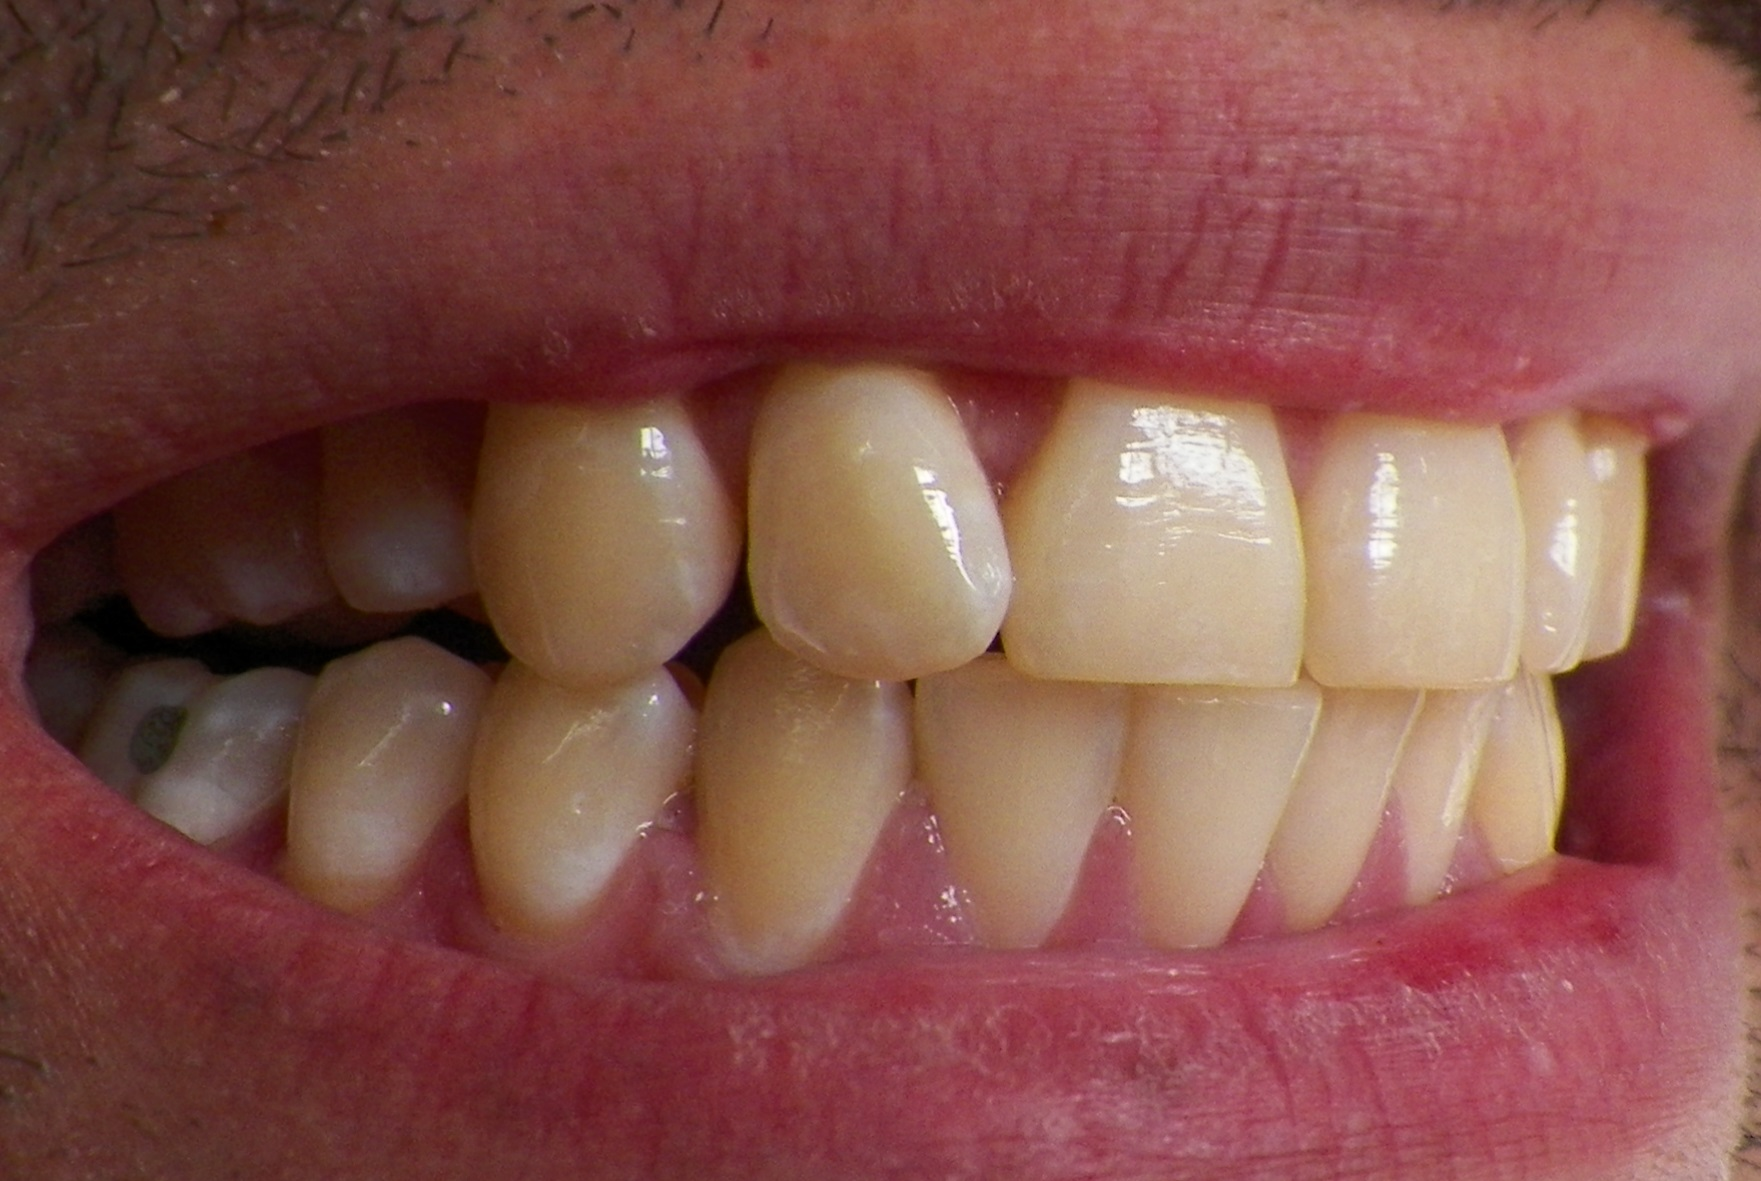boca: (41, 422, 1663, 956)
